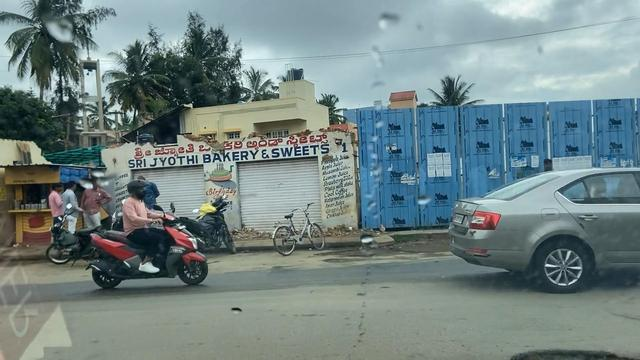LMV: (458, 168, 638, 291), (94, 182, 204, 295)
RoadDamages: (509, 346, 640, 360)
